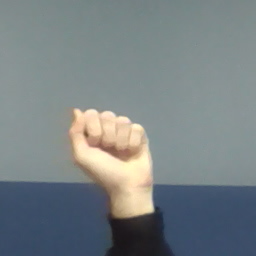A: (68, 105, 165, 193)
